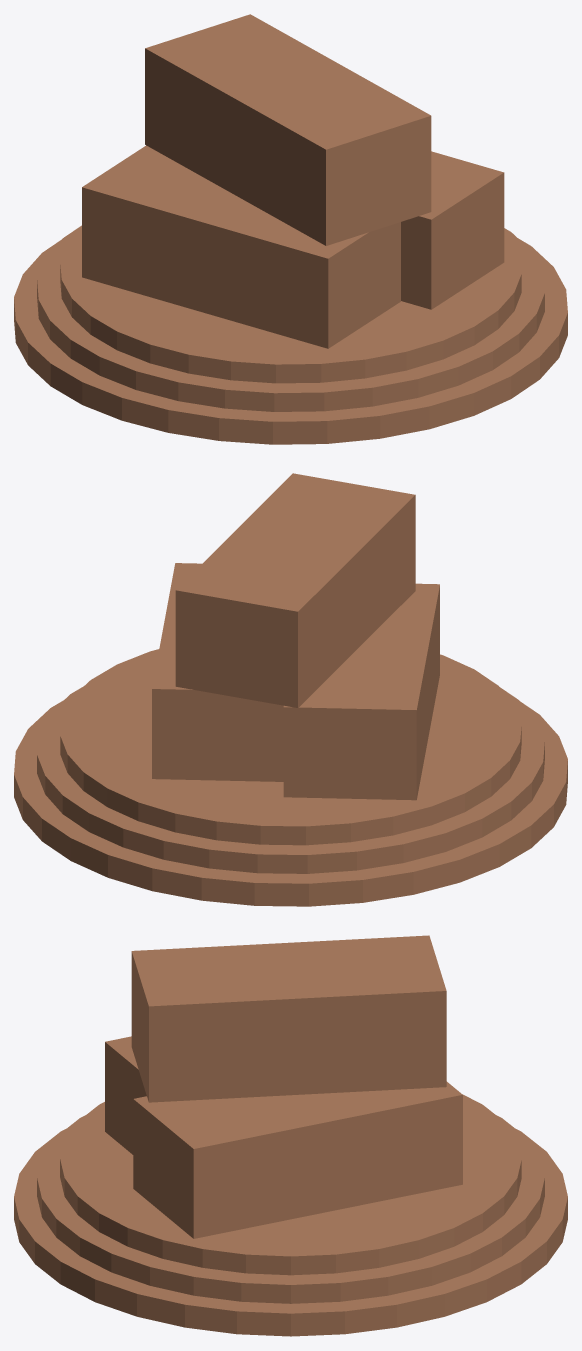
The model's file is harbor_brick.glb.
3 renders of one model, top to bottom at view 1: azimuth 30°, elevation 25°; view 2: azimuth 150°, elevation 25°; view 3: azimuth 270°, elevation 25°, orthographic.
Parts seen in each view (by area): view 1: harbor_brick; view 2: harbor_brick; view 3: harbor_brick.
Part boxes in pixels (x1,y1,x2,y2): harbor_brick: (14,14,567,444); harbor_brick: (14,473,567,906); harbor_brick: (14,935,567,1336).
Bounding box in the file's own units: 12 × 5.9 × 12.
